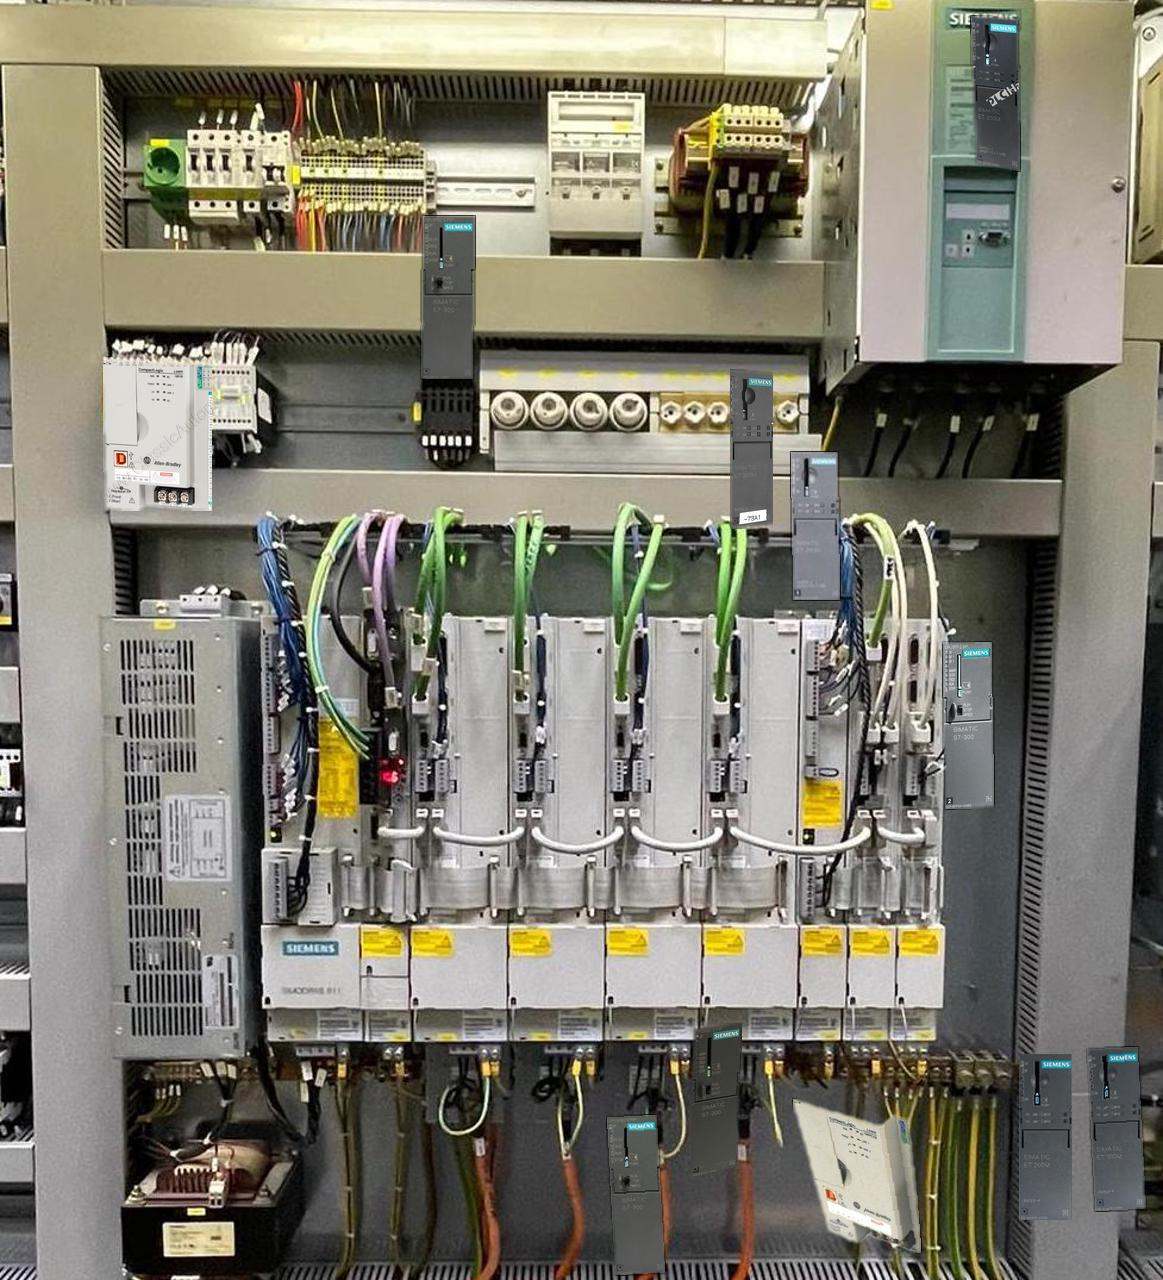AllenBradley: (793, 1099, 920, 1252), (103, 363, 211, 510)
Siemens: (607, 1115, 663, 1274), (421, 216, 474, 378), (943, 642, 994, 808), (691, 1024, 742, 1176)
